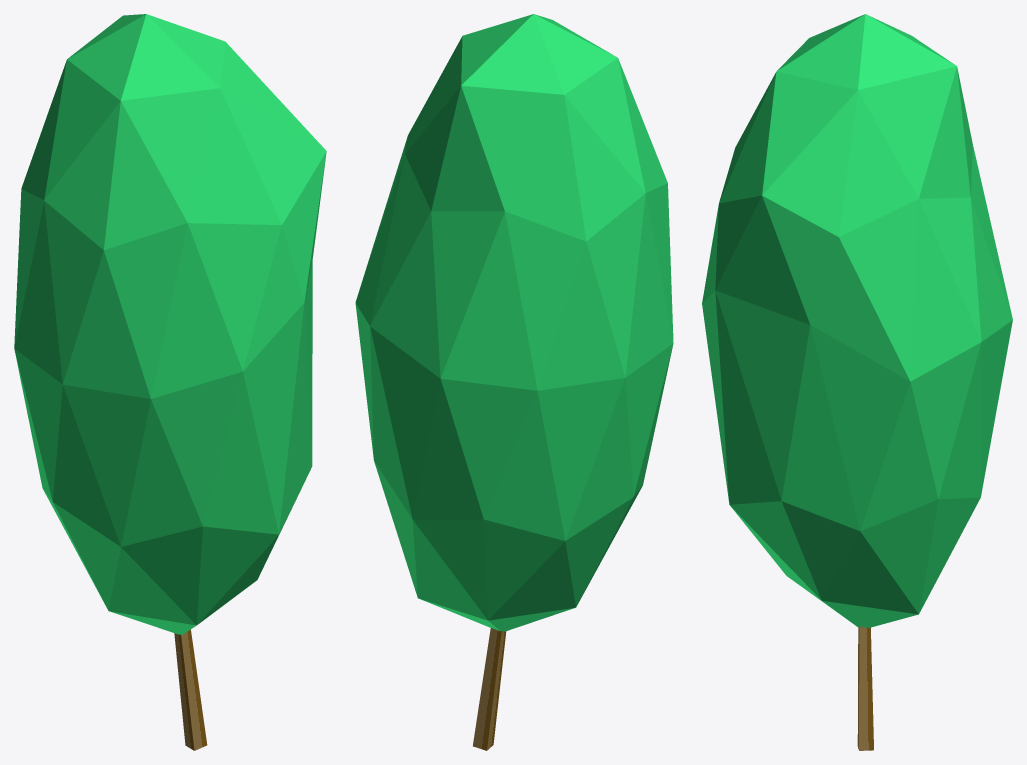
File: Tree_02.fbx
The picture shows the model from 3 angles, left to right: view 1: azimuth 30°, elevation 25°; view 2: azimuth 150°, elevation 25°; view 3: azimuth 270°, elevation 25°; orthographic projection. The views are drawn at different scales.
Parts seen in each view (by area): view 1: Tree_02; view 2: Tree_02; view 3: Tree_02.
Boxes of the visible parts, box(x1,y1,x2,y2) form: Tree_02: box(14, 14, 326, 750); Tree_02: box(355, 14, 673, 750); Tree_02: box(702, 14, 1012, 750).
Bounding box in the file's own units: 150 × 401 × 159.
